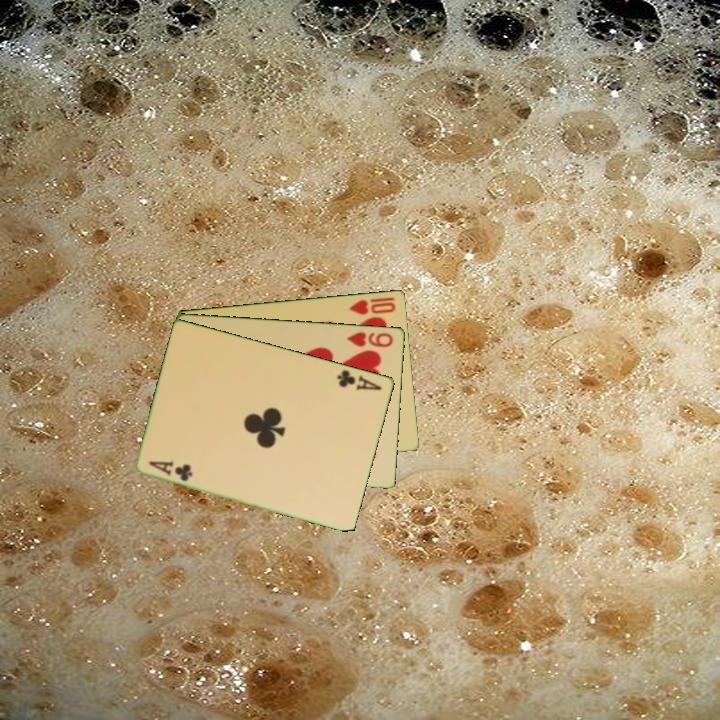10h: (346, 293, 399, 317)
9h: (343, 328, 396, 350)
Ac: (334, 366, 385, 393), (145, 457, 196, 484)
